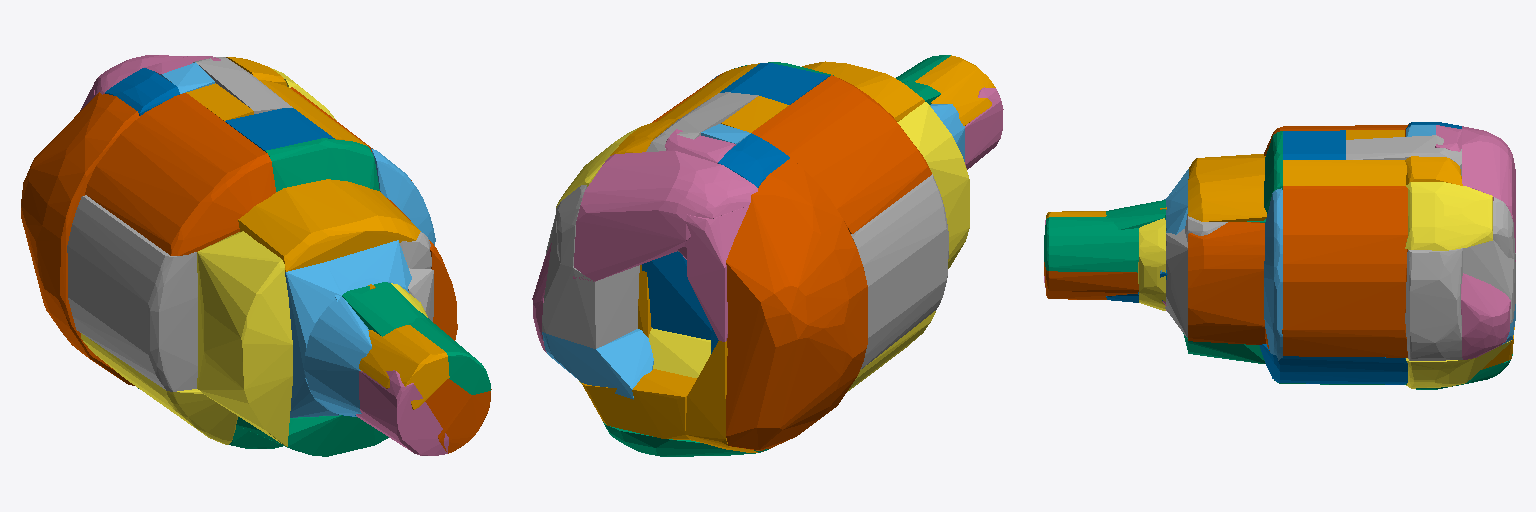
--- What the picture shows (computed from the rendered views, not written in the file) ---
Views: 3 orthographic renders of the robot side by side, from view 1: azimuth 30°, elevation 25°; view 2: azimuth 150°, elevation 25°; view 3: azimuth 270°, elevation 25°.
Model root with 64 links and 63 joints (63 fixed), rooted at link_screw~screw5_convex_piece_0, posed all joints at 0.
Visible links, largest first — view 1: link_screw~screw5_convex_piece_61, link_screw~screw5_convex_piece_31, link_screw~screw5_convex_piece_51, link_screw~screw5_convex_piece_45, link_screw~screw5_convex_piece_32, link_screw~screw5_convex_piece_57, link_screw~screw5_convex_piece_54, link_screw~screw5_convex_piece_26, link_screw~screw5_convex_piece_25, link_screw~screw5_convex_piece_48, link_screw~screw5_convex_piece_43, link_screw~screw5_convex_piece_42 (+17 smaller); view 2: link_screw~screw5_convex_piece_45, link_screw~screw5_convex_piece_62, link_screw~screw5_convex_piece_61, link_screw~screw5_convex_piece_31, link_screw~screw5_convex_piece_55, link_screw~screw5_convex_piece_56, link_screw~screw5_convex_piece_51, link_screw~screw5_convex_piece_6, link_screw~screw5_convex_piece_33, link_screw~screw5_convex_piece_60, link_screw~screw5_convex_piece_40, link_screw~screw5_convex_piece_48 (+18 smaller); view 3: link_screw~screw5_convex_piece_21, link_screw~screw5_convex_piece_29, link_screw~screw5_convex_piece_23, link_screw~screw5_convex_piece_19, link_screw~screw5_convex_piece_32, link_screw~screw5_convex_piece_18, link_screw~screw5_convex_piece_28, link_screw~screw5_convex_piece_37, link_screw~screw5_convex_piece_62, link_screw~screw5_convex_piece_22, link_screw~screw5_convex_piece_24, link_screw~screw5_convex_piece_41 (+15 smaller).
Boxes of the visible links, x1,y1,x2,y2 form: link_screw~screw5_convex_piece_61: (85, 93, 275, 255); link_screw~screw5_convex_piece_31: (67, 195, 197, 391); link_screw~screw5_convex_piece_51: (197, 231, 292, 446); link_screw~screw5_convex_piece_45: (21, 92, 139, 385); link_screw~screw5_convex_piece_32: (238, 179, 420, 271); link_screw~screw5_convex_piece_57: (304, 296, 371, 416); link_screw~screw5_convex_piece_54: (356, 370, 448, 455); link_screw~screw5_convex_piece_26: (265, 138, 379, 191); link_screw~screw5_convex_piece_25: (285, 262, 341, 417); link_screw~screw5_convex_piece_48: (359, 325, 449, 409); link_screw~screw5_convex_piece_43: (81, 333, 238, 444); link_screw~screw5_convex_piece_42: (236, 415, 388, 456); link_screw~screw5_convex_piece_45: (726, 158, 867, 451); link_screw~screw5_convex_piece_62: (573, 151, 757, 281); link_screw~screw5_convex_piece_61: (752, 75, 931, 233); link_screw~screw5_convex_piece_31: (851, 174, 948, 369); link_screw~screw5_convex_piece_55: (542, 217, 639, 348); link_screw~screw5_convex_piece_56: (582, 369, 696, 440); link_screw~screw5_convex_piece_51: (897, 102, 969, 268); link_screw~screw5_convex_piece_6: (686, 206, 748, 341); link_screw~screw5_convex_piece_33: (542, 329, 653, 399); link_screw~screw5_convex_piece_60: (642, 251, 711, 339); link_screw~screw5_convex_piece_40: (685, 341, 757, 452); link_screw~screw5_convex_piece_48: (915, 55, 995, 125); link_screw~screw5_convex_piece_21: (1283, 186, 1407, 329); link_screw~screw5_convex_piece_29: (1188, 222, 1265, 344); link_screw~screw5_convex_piece_23: (1405, 248, 1462, 360); link_screw~screw5_convex_piece_19: (1405, 182, 1492, 250); link_screw~screw5_convex_piece_32: (1188, 154, 1266, 221); link_screw~screw5_convex_piece_18: (1044, 217, 1138, 272); link_screw~screw5_convex_piece_28: (1259, 344, 1407, 384); link_screw~screw5_convex_piece_37: (1265, 324, 1407, 357); link_screw~screw5_convex_piece_62: (1462, 126, 1515, 261); link_screw~screw5_convex_piece_22: (1461, 273, 1510, 359); link_screw~screw5_convex_piece_24: (1283, 160, 1406, 185); link_screw~screw5_convex_piece_41: (1264, 188, 1282, 360).
Size in the robot's own frame: 0.0341 by 0.0612 by 0.0346 metres.
64 mesh visuals loaded from 64 distinct referenced files (64 OBJ).

URDF robot description (root):
<robot name="root">
  <link name="link_screw~screw5_convex_piece_0">
    <inertial>
      <origin xyz="0 0 0" rpy="0 0 0"/>
      <mass value="4.80E-04"/>
      <inertia ixx="9.96E-08" ixy="2.38E-09" ixz="8.95E-09" iyy="9.26E-08" iyz="-2.38E-08" izz="9.87E-09"/>
    </inertial>
    <visual>
      <origin xyz="0 0 0" rpy="0 0 0"/>
      <geometry>
        <mesh filename="screw~screw5_convex_piece_0.obj" scale="1.0000E+00 1.0000E+00 1.0000E+00"/>
      </geometry>
      <material name=""/>
    </visual>
    <collision>
      <origin xyz="0 0 0" rpy="0 0 0"/>
      <geometry>
        <mesh filename="screw~screw5_convex_piece_0.obj" scale="1.0000E+00 1.0000E+00 1.0000E+00"/>
      </geometry>
    </collision>
  </link>
  <link name="link_screw~screw5_convex_piece_1">
    <inertial>
      <origin xyz="0 0 0" rpy="0 0 0"/>
      <mass value="1.46E-03"/>
      <inertia ixx="6.79E-08" ixy="-4.08E-08" ixz="-9.70E-09" iyy="1.22E-07" iyz="-4.87E-09" izz="1.10E-07"/>
    </inertial>
    <visual>
      <origin xyz="0 0 0" rpy="0 0 0"/>
      <geometry>
        <mesh filename="screw~screw5_convex_piece_1.obj" scale="1.0000E+00 1.0000E+00 1.0000E+00"/>
      </geometry>
      <material name=""/>
    </visual>
    <collision>
      <origin xyz="0 0 0" rpy="0 0 0"/>
      <geometry>
        <mesh filename="screw~screw5_convex_piece_1.obj" scale="1.0000E+00 1.0000E+00 1.0000E+00"/>
      </geometry>
    </collision>
  </link>
  <joint name="link_screw~screw5_convex_piece_1_joint" type="fixed">
    <origin xyz="0 0 0" rpy="0 0 0"/>
    <parent link="link_screw~screw5_convex_piece_0"/>
    <child link="link_screw~screw5_convex_piece_1"/>
  </joint>
  <link name="link_screw~screw5_convex_piece_2">
    <inertial>
      <origin xyz="0 0 0" rpy="0 0 0"/>
      <mass value="2.32E-03"/>
      <inertia ixx="2.41E-07" ixy="1.24E-07" ixz="-7.33E-08" iyy="1.83E-07" iyz="7.82E-08" izz="3.02E-07"/>
    </inertial>
    <visual>
      <origin xyz="0 0 0" rpy="0 0 0"/>
      <geometry>
        <mesh filename="screw~screw5_convex_piece_2.obj" scale="1.0000E+00 1.0000E+00 1.0000E+00"/>
      </geometry>
      <material name=""/>
    </visual>
    <collision>
      <origin xyz="0 0 0" rpy="0 0 0"/>
      <geometry>
        <mesh filename="screw~screw5_convex_piece_2.obj" scale="1.0000E+00 1.0000E+00 1.0000E+00"/>
      </geometry>
    </collision>
  </link>
  <joint name="link_screw~screw5_convex_piece_2_joint" type="fixed">
    <origin xyz="0 0 0" rpy="0 0 0"/>
    <parent link="link_screw~screw5_convex_piece_1"/>
    <child link="link_screw~screw5_convex_piece_2"/>
  </joint>
  <link name="link_screw~screw5_convex_piece_3">
    <inertial>
      <origin xyz="0 0 0" rpy="0 0 0"/>
      <mass value="2.25E-03"/>
      <inertia ixx="9.09E-08" ixy="-6.29E-09" ixz="3.91E-09" iyy="2.51E-07" iyz="6.45E-10" izz="2.56E-07"/>
    </inertial>
    <visual>
      <origin xyz="0 0 0" rpy="0 0 0"/>
      <geometry>
        <mesh filename="screw~screw5_convex_piece_3.obj" scale="1.0000E+00 1.0000E+00 1.0000E+00"/>
      </geometry>
      <material name=""/>
    </visual>
    <collision>
      <origin xyz="0 0 0" rpy="0 0 0"/>
      <geometry>
        <mesh filename="screw~screw5_convex_piece_3.obj" scale="1.0000E+00 1.0000E+00 1.0000E+00"/>
      </geometry>
    </collision>
  </link>
  <joint name="link_screw~screw5_convex_piece_3_joint" type="fixed">
    <origin xyz="0 0 0" rpy="0 0 0"/>
    <parent link="link_screw~screw5_convex_piece_2"/>
    <child link="link_screw~screw5_convex_piece_3"/>
  </joint>
  <link name="link_screw~screw5_convex_piece_4">
    <inertial>
      <origin xyz="0 0 0" rpy="0 0 0"/>
      <mass value="1.32E-03"/>
      <inertia ixx="2.61E-07" ixy="5.47E-09" ixz="-1.69E-08" iyy="2.40E-07" iyz="7.14E-08" izz="3.89E-08"/>
    </inertial>
    <visual>
      <origin xyz="0 0 0" rpy="0 0 0"/>
      <geometry>
        <mesh filename="screw~screw5_convex_piece_4.obj" scale="1.0000E+00 1.0000E+00 1.0000E+00"/>
      </geometry>
      <material name=""/>
    </visual>
    <collision>
      <origin xyz="0 0 0" rpy="0 0 0"/>
      <geometry>
        <mesh filename="screw~screw5_convex_piece_4.obj" scale="1.0000E+00 1.0000E+00 1.0000E+00"/>
      </geometry>
    </collision>
  </link>
  <joint name="link_screw~screw5_convex_piece_4_joint" type="fixed">
    <origin xyz="0 0 0" rpy="0 0 0"/>
    <parent link="link_screw~screw5_convex_piece_3"/>
    <child link="link_screw~screw5_convex_piece_4"/>
  </joint>
  <link name="link_screw~screw5_convex_piece_5">
    <inertial>
      <origin xyz="0 0 0" rpy="0 0 0"/>
      <mass value="1.28E-03"/>
      <inertia ixx="1.69E-07" ixy="2.48E-08" ixz="-2.33E-08" iyy="7.94E-08" iyz="7.00E-08" izz="1.11E-07"/>
    </inertial>
    <visual>
      <origin xyz="0 0 0" rpy="0 0 0"/>
      <geometry>
        <mesh filename="screw~screw5_convex_piece_5.obj" scale="1.0000E+00 1.0000E+00 1.0000E+00"/>
      </geometry>
      <material name=""/>
    </visual>
    <collision>
      <origin xyz="0 0 0" rpy="0 0 0"/>
      <geometry>
        <mesh filename="screw~screw5_convex_piece_5.obj" scale="1.0000E+00 1.0000E+00 1.0000E+00"/>
      </geometry>
    </collision>
  </link>
  <joint name="link_screw~screw5_convex_piece_5_joint" type="fixed">
    <origin xyz="0 0 0" rpy="0 0 0"/>
    <parent link="link_screw~screw5_convex_piece_4"/>
    <child link="link_screw~screw5_convex_piece_5"/>
  </joint>
  <link name="link_screw~screw5_convex_piece_6">
    <inertial>
      <origin xyz="0 0 0" rpy="0 0 0"/>
      <mass value="9.29E-04"/>
      <inertia ixx="3.83E-07" ixy="1.06E-07" ixz="4.30E-08" iyy="1.02E-07" iyz="-1.31E-07" izz="3.55E-07"/>
    </inertial>
    <visual>
      <origin xyz="0 0 0" rpy="0 0 0"/>
      <geometry>
        <mesh filename="screw~screw5_convex_piece_6.obj" scale="1.0000E+00 1.0000E+00 1.0000E+00"/>
      </geometry>
      <material name=""/>
    </visual>
    <collision>
      <origin xyz="0 0 0" rpy="0 0 0"/>
      <geometry>
        <mesh filename="screw~screw5_convex_piece_6.obj" scale="1.0000E+00 1.0000E+00 1.0000E+00"/>
      </geometry>
    </collision>
  </link>
  <joint name="link_screw~screw5_convex_piece_6_joint" type="fixed">
    <origin xyz="0 0 0" rpy="0 0 0"/>
    <parent link="link_screw~screw5_convex_piece_5"/>
    <child link="link_screw~screw5_convex_piece_6"/>
  </joint>
  <link name="link_screw~screw5_convex_piece_7">
    <inertial>
      <origin xyz="0 0 0" rpy="0 0 0"/>
      <mass value="6.60E-04"/>
      <inertia ixx="4.32E-08" ixy="6.39E-09" ixz="-4.72E-09" iyy="1.26E-08" iyz="9.67E-09" izz="3.71E-08"/>
    </inertial>
    <visual>
      <origin xyz="0 0 0" rpy="0 0 0"/>
      <geometry>
        <mesh filename="screw~screw5_convex_piece_7.obj" scale="1.0000E+00 1.0000E+00 1.0000E+00"/>
      </geometry>
      <material name=""/>
    </visual>
    <collision>
      <origin xyz="0 0 0" rpy="0 0 0"/>
      <geometry>
        <mesh filename="screw~screw5_convex_piece_7.obj" scale="1.0000E+00 1.0000E+00 1.0000E+00"/>
      </geometry>
    </collision>
  </link>
  <joint name="link_screw~screw5_convex_piece_7_joint" type="fixed">
    <origin xyz="0 0 0" rpy="0 0 0"/>
    <parent link="link_screw~screw5_convex_piece_6"/>
    <child link="link_screw~screw5_convex_piece_7"/>
  </joint>
  <link name="link_screw~screw5_convex_piece_8">
    <inertial>
      <origin xyz="0 0 0" rpy="0 0 0"/>
      <mass value="1.54E-03"/>
      <inertia ixx="2.80E-07" ixy="-2.34E-08" ixz="8.75E-09" iyy="3.37E-08" iyz="6.23E-08" izz="2.57E-07"/>
    </inertial>
    <visual>
      <origin xyz="0 0 0" rpy="0 0 0"/>
      <geometry>
        <mesh filename="screw~screw5_convex_piece_8.obj" scale="1.0000E+00 1.0000E+00 1.0000E+00"/>
      </geometry>
      <material name=""/>
    </visual>
    <collision>
      <origin xyz="0 0 0" rpy="0 0 0"/>
      <geometry>
        <mesh filename="screw~screw5_convex_piece_8.obj" scale="1.0000E+00 1.0000E+00 1.0000E+00"/>
      </geometry>
    </collision>
  </link>
  <joint name="link_screw~screw5_convex_piece_8_joint" type="fixed">
    <origin xyz="0 0 0" rpy="0 0 0"/>
    <parent link="link_screw~screw5_convex_piece_7"/>
    <child link="link_screw~screw5_convex_piece_8"/>
  </joint>
  <link name="link_screw~screw5_convex_piece_9">
    <inertial>
      <origin xyz="0 0 0" rpy="0 0 0"/>
      <mass value="2.65E-03"/>
      <inertia ixx="3.70E-07" ixy="1.79E-07" ixz="6.34E-08" iyy="1.86E-07" iyz="-8.54E-08" izz="4.64E-07"/>
    </inertial>
    <visual>
      <origin xyz="0 0 0" rpy="0 0 0"/>
      <geometry>
        <mesh filename="screw~screw5_convex_piece_9.obj" scale="1.0000E+00 1.0000E+00 1.0000E+00"/>
      </geometry>
      <material name=""/>
    </visual>
    <collision>
      <origin xyz="0 0 0" rpy="0 0 0"/>
      <geometry>
        <mesh filename="screw~screw5_convex_piece_9.obj" scale="1.0000E+00 1.0000E+00 1.0000E+00"/>
      </geometry>
    </collision>
  </link>
  <joint name="link_screw~screw5_convex_piece_9_joint" type="fixed">
    <origin xyz="0 0 0" rpy="0 0 0"/>
    <parent link="link_screw~screw5_convex_piece_8"/>
    <child link="link_screw~screw5_convex_piece_9"/>
  </joint>
  <link name="link_screw~screw5_convex_piece_10">
    <inertial>
      <origin xyz="0 0 0" rpy="0 0 0"/>
      <mass value="1.97E-03"/>
      <inertia ixx="5.12E-07" ixy="-1.03E-08" ixz="1.31E-08" iyy="2.84E-07" iyz="2.49E-07" izz="3.28E-07"/>
    </inertial>
    <visual>
      <origin xyz="0 0 0" rpy="0 0 0"/>
      <geometry>
        <mesh filename="screw~screw5_convex_piece_10.obj" scale="1.0000E+00 1.0000E+00 1.0000E+00"/>
      </geometry>
      <material name=""/>
    </visual>
    <collision>
      <origin xyz="0 0 0" rpy="0 0 0"/>
      <geometry>
        <mesh filename="screw~screw5_convex_piece_10.obj" scale="1.0000E+00 1.0000E+00 1.0000E+00"/>
      </geometry>
    </collision>
  </link>
  <joint name="link_screw~screw5_convex_piece_10_joint" type="fixed">
    <origin xyz="0 0 0" rpy="0 0 0"/>
    <parent link="link_screw~screw5_convex_piece_9"/>
    <child link="link_screw~screw5_convex_piece_10"/>
  </joint>
  <link name="link_screw~screw5_convex_piece_11">
    <inertial>
      <origin xyz="0 0 0" rpy="0 0 0"/>
      <mass value="3.14E-03"/>
      <inertia ixx="3.65E-07" ixy="-4.70E-08" ixz="8.00E-08" iyy="2.36E-07" iyz="9.63E-08" izz="2.45E-07"/>
    </inertial>
    <visual>
      <origin xyz="0 0 0" rpy="0 0 0"/>
      <geometry>
        <mesh filename="screw~screw5_convex_piece_11.obj" scale="1.0000E+00 1.0000E+00 1.0000E+00"/>
      </geometry>
      <material name=""/>
    </visual>
    <collision>
      <origin xyz="0 0 0" rpy="0 0 0"/>
      <geometry>
        <mesh filename="screw~screw5_convex_piece_11.obj" scale="1.0000E+00 1.0000E+00 1.0000E+00"/>
      </geometry>
    </collision>
  </link>
  <joint name="link_screw~screw5_convex_piece_11_joint" type="fixed">
    <origin xyz="0 0 0" rpy="0 0 0"/>
    <parent link="link_screw~screw5_convex_piece_10"/>
    <child link="link_screw~screw5_convex_piece_11"/>
  </joint>
  <link name="link_screw~screw5_convex_piece_12">
    <inertial>
      <origin xyz="0 0 0" rpy="0 0 0"/>
      <mass value="5.05E-03"/>
      <inertia ixx="3.67E-07" ixy="-1.09E-07" ixz="-2.01E-08" iyy="2.59E-07" iyz="-1.56E-08" izz="4.71E-07"/>
    </inertial>
    <visual>
      <origin xyz="0 0 0" rpy="0 0 0"/>
      <geometry>
        <mesh filename="screw~screw5_convex_piece_12.obj" scale="1.0000E+00 1.0000E+00 1.0000E+00"/>
      </geometry>
      <material name=""/>
    </visual>
    <collision>
      <origin xyz="0 0 0" rpy="0 0 0"/>
      <geometry>
        <mesh filename="screw~screw5_convex_piece_12.obj" scale="1.0000E+00 1.0000E+00 1.0000E+00"/>
      </geometry>
    </collision>
  </link>
  <joint name="link_screw~screw5_convex_piece_12_joint" type="fixed">
    <origin xyz="0 0 0" rpy="0 0 0"/>
    <parent link="link_screw~screw5_convex_piece_11"/>
    <child link="link_screw~screw5_convex_piece_12"/>
  </joint>
  <link name="link_screw~screw5_convex_piece_13">
    <inertial>
      <origin xyz="0 0 0" rpy="0 0 0"/>
      <mass value="2.34E-03"/>
      <inertia ixx="2.57E-07" ixy="2.55E-10" ixz="7.73E-10" iyy="2.53E-07" iyz="-6.85E-09" izz="9.65E-08"/>
    </inertial>
    <visual>
      <origin xyz="0 0 0" rpy="0 0 0"/>
      <geometry>
        <mesh filename="screw~screw5_convex_piece_13.obj" scale="1.0000E+00 1.0000E+00 1.0000E+00"/>
      </geometry>
      <material name=""/>
    </visual>
    <collision>
      <origin xyz="0 0 0" rpy="0 0 0"/>
      <geometry>
        <mesh filename="screw~screw5_convex_piece_13.obj" scale="1.0000E+00 1.0000E+00 1.0000E+00"/>
      </geometry>
    </collision>
  </link>
  <joint name="link_screw~screw5_convex_piece_13_joint" type="fixed">
    <origin xyz="0 0 0" rpy="0 0 0"/>
    <parent link="link_screw~screw5_convex_piece_12"/>
    <child link="link_screw~screw5_convex_piece_13"/>
  </joint>
  <link name="link_screw~screw5_convex_piece_14">
    <inertial>
      <origin xyz="0 0 0" rpy="0 0 0"/>
      <mass value="2.22E-03"/>
      <inertia ixx="3.66E-07" ixy="5.08E-08" ixz="4.03E-08" iyy="9.96E-08" iyz="-8.82E-08" izz="3.24E-07"/>
    </inertial>
    <visual>
      <origin xyz="0 0 0" rpy="0 0 0"/>
      <geometry>
        <mesh filename="screw~screw5_convex_piece_14.obj" scale="1.0000E+00 1.0000E+00 1.0000E+00"/>
      </geometry>
      <material name=""/>
    </visual>
    <collision>
      <origin xyz="0 0 0" rpy="0 0 0"/>
      <geometry>
        <mesh filename="screw~screw5_convex_piece_14.obj" scale="1.0000E+00 1.0000E+00 1.0000E+00"/>
      </geometry>
    </collision>
  </link>
  <joint name="link_screw~screw5_convex_piece_14_joint" type="fixed">
    <origin xyz="0 0 0" rpy="0 0 0"/>
    <parent link="link_screw~screw5_convex_piece_13"/>
    <child link="link_screw~screw5_convex_piece_14"/>
  </joint>
  <link name="link_screw~screw5_convex_piece_15">
    <inertial>
      <origin xyz="0 0 0" rpy="0 0 0"/>
      <mass value="1.20E-04"/>
      <inertia ixx="5.70E-08" ixy="-2.56E-08" ixz="-9.71E-09" iyy="2.10E-08" iyz="-1.87E-08" izz="6.28E-08"/>
    </inertial>
    <visual>
      <origin xyz="0 0 0" rpy="0 0 0"/>
      <geometry>
        <mesh filename="screw~screw5_convex_piece_15.obj" scale="1.0000E+00 1.0000E+00 1.0000E+00"/>
      </geometry>
      <material name=""/>
    </visual>
    <collision>
      <origin xyz="0 0 0" rpy="0 0 0"/>
      <geometry>
        <mesh filename="screw~screw5_convex_piece_15.obj" scale="1.0000E+00 1.0000E+00 1.0000E+00"/>
      </geometry>
    </collision>
  </link>
  <joint name="link_screw~screw5_convex_piece_15_joint" type="fixed">
    <origin xyz="0 0 0" rpy="0 0 0"/>
    <parent link="link_screw~screw5_convex_piece_14"/>
    <child link="link_screw~screw5_convex_piece_15"/>
  </joint>
  <link name="link_screw~screw5_convex_piece_16">
    <inertial>
      <origin xyz="0 0 0" rpy="0 0 0"/>
      <mass value="2.30E-03"/>
      <inertia ixx="4.57E-07" ixy="-1.84E-07" ixz="-5.27E-08" iyy="2.47E-07" iyz="-8.90E-08" izz="4.37E-07"/>
    </inertial>
    <visual>
      <origin xyz="0 0 0" rpy="0 0 0"/>
      <geometry>
        <mesh filename="screw~screw5_convex_piece_16.obj" scale="1.0000E+00 1.0000E+00 1.0000E+00"/>
      </geometry>
      <material name=""/>
    </visual>
    <collision>
      <origin xyz="0 0 0" rpy="0 0 0"/>
      <geometry>
        <mesh filename="screw~screw5_convex_piece_16.obj" scale="1.0000E+00 1.0000E+00 1.0000E+00"/>
      </geometry>
    </collision>
  </link>
  <joint name="link_screw~screw5_convex_piece_16_joint" type="fixed">
    <origin xyz="0 0 0" rpy="0 0 0"/>
    <parent link="link_screw~screw5_convex_piece_15"/>
    <child link="link_screw~screw5_convex_piece_16"/>
  </joint>
  <link name="link_screw~screw5_convex_piece_17">
    <inertial>
      <origin xyz="0 0 0" rpy="0 0 0"/>
      <mass value="7.86E-04"/>
      <inertia ixx="1.53E-07" ixy="1.23E-08" ixz="1.09E-08" iyy="8.13E-08" iyz="-6.70E-08" izz="7.81E-08"/>
    </inertial>
    <visual>
      <origin xyz="0 0 0" rpy="0 0 0"/>
      <geometry>
        <mesh filename="screw~screw5_convex_piece_17.obj" scale="1.0000E+00 1.0000E+00 1.0000E+00"/>
      </geometry>
      <material name=""/>
    </visual>
    <collision>
      <origin xyz="0 0 0" rpy="0 0 0"/>
      <geometry>
        <mesh filename="screw~screw5_convex_piece_17.obj" scale="1.0000E+00 1.0000E+00 1.0000E+00"/>
      </geometry>
    </collision>
  </link>
  <joint name="link_screw~screw5_convex_piece_17_joint" type="fixed">
    <origin xyz="0 0 0" rpy="0 0 0"/>
    <parent link="link_screw~screw5_convex_piece_16"/>
    <child link="link_screw~screw5_convex_piece_17"/>
  </joint>
  <link name="link_screw~screw5_convex_piece_18">
    <inertial>
      <origin xyz="0 0 0" rpy="0 0 0"/>
      <mass value="6.26E-04"/>
      <inertia ixx="6.94E-07" ixy="6.23E-08" ixz="-4.94E-09" iyy="1.35E-08" iyz="6.10E-08" izz="6.94E-07"/>
    </inertial>
    <visual>
      <origin xyz="0 0 0" rpy="0 0 0"/>
      <geometry>
        <mesh filename="screw~screw5_convex_piece_18.obj" scale="1.0000E+00 1.0000E+00 1.0000E+00"/>
      </geometry>
      <material name=""/>
    </visual>
    <collision>
      <origin xyz="0 0 0" rpy="0 0 0"/>
      <geometry>
        <mesh filename="screw~screw5_convex_piece_18.obj" scale="1.0000E+00 1.0000E+00 1.0000E+00"/>
      </geometry>
    </collision>
  </link>
  <joint name="link_screw~screw5_convex_piece_18_joint" type="fixed">
    <origin xyz="0 0 0" rpy="0 0 0"/>
    <parent link="link_screw~screw5_convex_piece_17"/>
    <child link="link_screw~screw5_convex_piece_18"/>
  </joint>
  <link name="link_screw~screw5_convex_piece_19">
    <inertial>
      <origin xyz="0 0 0" rpy="0 0 0"/>
      <mass value="7.23E-04"/>
      <inertia ixx="2.06E-07" ixy="-1.04E-07" ixz="-8.32E-08" iyy="1.72E-07" iyz="-9.58E-08" izz="2.19E-07"/>
    </inertial>
    <visual>
      <origin xyz="0 0 0" rpy="0 0 0"/>
      <geometry>
        <mesh filename="screw~screw5_convex_piece_19.obj" scale="1.0000E+00 1.0000E+00 1.0000E+00"/>
      </geometry>
      <material name=""/>
    </visual>
    <collision>
      <origin xyz="0 0 0" rpy="0 0 0"/>
      <geometry>
        <mesh filename="screw~screw5_convex_piece_19.obj" scale="1.0000E+00 1.0000E+00 1.0000E+00"/>
      </geometry>
    </collision>
  </link>
  <joint name="link_screw~screw5_convex_piece_19_joint" type="fixed">
    <origin xyz="0 0 0" rpy="0 0 0"/>
    <parent link="link_screw~screw5_convex_piece_18"/>
    <child link="link_screw~screw5_convex_piece_19"/>
  </joint>
  <link name="link_screw~screw5_convex_piece_20">
    <inertial>
      <origin xyz="0 0 0" rpy="0 0 0"/>
      <mass value="2.56E-03"/>
      <inertia ixx="5.28E-07" ixy="1.76E-07" ixz="5.18E-08" iyy="2.56E-07" iyz="-1.07E-07" izz="4.57E-07"/>
    </inertial>
    <visual>
      <origin xyz="0 0 0" rpy="0 0 0"/>
      <geometry>
        <mesh filename="screw~screw5_convex_piece_20.obj" scale="1.0000E+00 1.0000E+00 1.0000E+00"/>
      </geometry>
      <material name=""/>
    </visual>
    <collision>
      <origin xyz="0 0 0" rpy="0 0 0"/>
      <geometry>
        <mesh filename="screw~screw5_convex_piece_20.obj" scale="1.0000E+00 1.0000E+00 1.0000E+00"/>
      </geometry>
    </collision>
  </link>
  <joint name="link_screw~screw5_convex_piece_20_joint" type="fixed">
    <origin xyz="0 0 0" rpy="0 0 0"/>
    <parent link="link_screw~screw5_convex_piece_19"/>
    <child link="link_screw~screw5_convex_piece_20"/>
  </joint>
  <link name="link_screw~screw5_convex_piece_21">
    <inertial>
      <origin xyz="0 0 0" rpy="0 0 0"/>
      <mass value="4.19E-03"/>
      <inertia ixx="2.37E-07" ixy="8.62E-09" ixz="-2.00E-07" iyy="8.29E-07" iyz="1.08E-09" izz="7.72E-07"/>
    </inertial>
    <visual>
      <origin xyz="0 0 0" rpy="0 0 0"/>
      <geometry>
        <mesh filename="screw~screw5_convex_piece_21.obj" scale="1.0000E+00 1.0000E+00 1.0000E+00"/>
      </geometry>
      <material name=""/>
    </visual>
    <collision>
      <origin xyz="0 0 0" rpy="0 0 0"/>
      <geometry>
        <mesh filename="screw~screw5_convex_piece_21.obj" scale="1.0000E+00 1.0000E+00 1.0000E+00"/>
      </geometry>
    </collision>
  </link>
  <joint name="link_screw~screw5_convex_piece_21_joint" type="fixed">
    <origin xyz="0 0 0" rpy="0 0 0"/>
    <parent link="link_screw~screw5_convex_piece_20"/>
    <child link="link_screw~screw5_convex_piece_21"/>
  </joint>
  <link name="link_screw~screw5_convex_piece_22">
    <inertial>
      <origin xyz="0 0 0" rpy="0 0 0"/>
      <mass value="3.16E-04"/>
      <inertia ixx="1.03E-07" ixy="-8.04E-08" ixz="1.01E-08" iyy="7.04E-08" iyz="1.25E-08" izz="1.65E-07"/>
    </inertial>
    <visual>
      <origin xyz="0 0 0" rpy="0 0 0"/>
      <geometry>
        <mesh filename="screw~screw5_convex_piece_22.obj" scale="1.0000E+00 1.0000E+00 1.0000E+00"/>
      </geometry>
      <material name=""/>
    </visual>
    <collision>
      <origin xyz="0 0 0" rpy="0 0 0"/>
      <geometry>
        <mesh filename="screw~screw5_convex_piece_22.obj" scale="1.0000E+00 1.0000E+00 1.0000E+00"/>
      </geometry>
    </collision>
  </link>
  <joint name="link_screw~screw5_convex_piece_22_joint" type="fixed">
    <origin xyz="0 0 0" rpy="0 0 0"/>
    <parent link="link_screw~screw5_convex_piece_21"/>
    <child link="link_screw~screw5_convex_piece_22"/>
  </joint>
  <link name="link_screw~screw5_convex_piece_23">
    <inertial>
      <origin xyz="0 0 0" rpy="0 0 0"/>
      <mass value="2.51E-03"/>
      <inertia ixx="3.93E-07" ixy="-3.67E-07" ixz="3.77E-09" iyy="4.70E-07" iyz="3.18E-09" izz="7.60E-07"/>
    </inertial>
    <visual>
      <origin xyz="0 0 0" rpy="0 0 0"/>
      <geometry>
        <mesh filename="screw~screw5_convex_piece_23.obj" scale="1.0000E+00 1.0000E+00 1.0000E+00"/>
      </geometry>
      <material name=""/>
    </visual>
    <collision>
      <origin xyz="0 0 0" rpy="0 0 0"/>
      <geometry>
        <mesh filename="screw~screw5_convex_piece_23.obj" scale="1.0000E+00 1.0000E+00 1.0000E+00"/>
      </geometry>
    </collision>
  </link>
  <joint name="link_screw~screw5_convex_piece_23_joint" type="fixed">
    <origin xyz="0 0 0" rpy="0 0 0"/>
    <parent link="link_screw~screw5_convex_piece_22"/>
    <child link="link_screw~screw5_convex_piece_23"/>
  </joint>
  <link name="link_screw~screw5_convex_piece_24">
    <inertial>
      <origin xyz="0 0 0" rpy="0 0 0"/>
      <mass value="1.07E-03"/>
      <inertia ixx="1.90E-07" ixy="2.38E-09" ixz="-9.33E-08" iyy="2.22E-07" iyz="4.11E-09" izz="7.77E-08"/>
    </inertial>
    <visual>
      <origin xyz="0 0 0" rpy="0 0 0"/>
      <geometry>
        <mesh filename="screw~screw5_convex_piece_24.obj" scale="1.0000E+00 1.0000E+00 1.0000E+00"/>
      </geometry>
      <material name=""/>
    </visual>
    <collision>
      <origin xyz="0 0 0" rpy="0 0 0"/>
      <geometry>
        <mesh filename="screw~screw5_convex_piece_24.obj" scale="1.0000E+00 1.0000E+00 1.0000E+00"/>
      </geometry>
    </collision>
  </link>
  <joint name="link_screw~screw5_convex_piece_24_joint" type="fixed">
    <origin xyz="0 0 0" rpy="0 0 0"/>
    <parent link="link_screw~screw5_convex_piece_23"/>
    <child link="link_screw~screw5_convex_piece_24"/>
  </joint>
  <link name="link_screw~screw5_convex_piece_25">
    <inertial>
      <origin xyz="0 0 0" rpy="0 0 0"/>
      <mass value="1.67E-03"/>
      <inertia ixx="6.53E-07" ixy="-1.67E-07" ixz="7.75E-09" iyy="8.71E-08" iyz="2.63E-08" izz="6.65E-07"/>
    </inertial>
    <visual>
      <origin xyz="0 0 0" rpy="0 0 0"/>
      <geometry>
        <mesh filename="screw~screw5_convex_piece_25.obj" scale="1.0000E+00 1.0000E+00 1.0000E+00"/>
      </geometry>
      <material name=""/>
    </visual>
    <collision>
      <origin xyz="0 0 0" rpy="0 0 0"/>
      <geometry>
        <mesh filename="screw~screw5_convex_piece_25.obj" scale="1.0000E+00 1.0000E+00 1.0000E+00"/>
      </geometry>
    </collision>
  </link>
  <joint name="link_screw~screw5_convex_piece_25_joint" type="fixed">
    <origin xyz="0 0 0" rpy="0 0 0"/>
    <parent link="link_screw~screw5_convex_piece_24"/>
    <child link="link_screw~screw5_convex_piece_25"/>
  </joint>
  <link name="link_screw~screw5_convex_piece_26">
    <inertial>
      <origin xyz="0 0 0" rpy="0 0 0"/>
      <mass value="4.54E-04"/>
      <inertia ixx="1.11E-07" ixy="1.14E-08" ixz="-1.46E-08" iyy="7.98E-08" iyz="5.25E-08" izz="4.84E-08"/>
    </inertial>
    <visual>
      <origin xyz="0 0 0" rpy="0 0 0"/>
      <geometry>
        <mesh filename="screw~screw5_convex_piece_26.obj" scale="1.0000E+00 1.0000E+00 1.0000E+00"/>
      </geometry>
      <material name=""/>
    </visual>
    <collision>
      <origin xyz="0 0 0" rpy="0 0 0"/>
      <geometry>
        <mesh filename="screw~screw5_convex_piece_26.obj" scale="1.0000E+00 1.0000E+00 1.0000E+00"/>
      </geometry>
    </collision>
  </link>
  <joint name="link_screw~screw5_convex_piece_26_joint" type="fixed">
    <origin xyz="0 0 0" rpy="0 0 0"/>
    <parent link="link_screw~screw5_convex_piece_25"/>
    <child link="link_screw~screw5_convex_piece_26"/>
  </joint>
  <link name="link_screw~screw5_convex_piece_27">
    <inertial>
      <origin xyz="0 0 0" rpy="0 0 0"/>
      <mass value="7.50E-04"/>
      <inertia ixx="2.08E-07" ixy="-1.01E-07" ixz="8.31E-08" iyy="1.72E-07" iyz="9.70E-08" izz="2.13E-07"/>
    </inertial>
    <visual>
      <origin xyz="0 0 0" rpy="0 0 0"/>
      <geometry>
        <mesh filename="screw~screw5_convex_piece_27.obj" scale="1.0000E+00 1.0000E+00 1.0000E+00"/>
      </geometry>
      <material name=""/>
    </visual>
    <collision>
      <origin xyz="0 0 0" rpy="0 0 0"/>
      <geometry>
        <mesh filename="screw~screw5_convex_piece_27.obj" scale="1.0000E+00 1.0000E+00 1.0000E+00"/>
      </geometry>
    </collision>
  </link>
  <joint name="link_screw~screw5_convex_piece_27_joint" type="fixed">
    <origin xyz="0 0 0" rpy="0 0 0"/>
    <parent link="link_screw~screw5_convex_piece_26"/>
    <child link="link_screw~screw5_convex_piece_27"/>
  </joint>
  <link name="link_screw~screw5_convex_piece_28">
    <inertial>
      <origin xyz="0 0 0" rpy="0 0 0"/>
      <mass value="1.57E-03"/>
      <inertia ixx="2.11E-07" ixy="1.67E-08" ixz="1.65E-07" iyy="3.44E-07" iyz="-1.63E-08" izz="2.22E-07"/>
    </inertial>
    <visual>
      <origin xyz="0 0 0" rpy="0 0 0"/>
      <geometry>
        <mesh filename="screw~screw5_convex_piece_28.obj" scale="1.0000E+00 1.0000E+00 1.0000E+00"/>
      </geometry>
      <material name=""/>
    </visual>
    <collision>
      <origin xyz="0 0 0" rpy="0 0 0"/>
      <geometry>
        <mesh filename="screw~screw5_convex_piece_28.obj" scale="1.0000E+00 1.0000E+00 1.0000E+00"/>
      </geometry>
    </collision>
  </link>
  <joint name="link_screw~screw5_convex_piece_28_joint" type="fixed">
    <origin xyz="0 0 0" rpy="0 0 0"/>
    <parent link="link_screw~screw5_convex_piece_27"/>
    <child link="link_screw~screw5_convex_piece_28"/>
  </joint>
  <link name="link_screw~screw5_convex_piece_29">
    <inertial>
      <origin xyz="0 0 0" rpy="0 0 0"/>
      <mass value="1.36E-03"/>
      <inertia ixx="3.38E-07" ixy="2.16E-07" ixz="-4.41E-09" iyy="1.79E-07" iyz="5.85E-09" izz="4.70E-07"/>
    </inertial>
    <visual>
      <origin xyz="0 0 0" rpy="0 0 0"/>
      <geometry>
        <mesh filename="screw~screw5_convex_piece_29.obj" scale="1.0000E+00 1.0000E+00 1.0000E+00"/>
      </geometry>
      <material name=""/>
    </visual>
    <collision>
      <origin xyz="0 0 0" rpy="0 0 0"/>
      <geometry>
        <mesh filename="screw~screw5_convex_piece_29.obj" scale="1.0000E+00 1.0000E+00 1.0000E+00"/>
      </geometry>
    </collision>
  </link>
  <joint name="link_screw~screw5_convex_piece_29_joint" type="fixed">
    <origin xyz="0 0 0" rpy="0 0 0"/>
    <parent link="link_screw~screw5_convex_piece_28"/>
    <child link="link_screw~screw5_convex_piece_29"/>
  </joint>
  <link name="link_screw~screw5_convex_piece_30">
    <inertial>
      <origin xyz="0 0 0" rpy="0 0 0"/>
      <mass value="3.46E-04"/>
      <inertia ixx="8.19E-08" ixy="8.66E-09" ixz="3.47E-09" iyy="1.50E-08" iyz="-2.89E-08" izz="7.01E-08"/>
    </inertial>
    <visual>
      <origin xyz="0 0 0" rpy="0 0 0"/>
      <geometry>
        <mesh filename="screw~screw5_convex_piece_30.obj" scale="1.0000E+00 1.0000E+00 1.0000E+00"/>
      </geometry>
      <material name=""/>
    </visual>
    <collision>
      <origin xyz="0 0 0" rpy="0 0 0"/>
      <geometry>
        <mesh filename="screw~screw5_convex_piece_30.obj" scale="1.0000E+00 1.0000E+00 1.0000E+00"/>
      </geometry>
    </collision>
  </link>
  <joint name="link_screw~screw5_convex_piece_30_joint" type="fixed">
    <origin xyz="0 0 0" rpy="0 0 0"/>
    <parent link="link_screw~screw5_convex_piece_29"/>
    <child link="link_screw~screw5_convex_piece_30"/>
  </joint>
  <link name="link_screw~screw5_convex_piece_31">
    <inertial>
      <origin xyz="0 0 0" rpy="0 0 0"/>
      <mass value="3.64E-03"/>
      <inertia ixx="1.56E-07" ixy="-4.02E-08" ixz="1.89E-08" iyy="7.61E-07" iyz="7.98E-10" izz="7.96E-07"/>
    </inertial>
    <visual>
      <origin xyz="0 0 0" rpy="0 0 0"/>
      <geometry>
        <mesh filename="screw~screw5_convex_piece_31.obj" scale="1.0000E+00 1.0000E+00 1.0000E+00"/>
      </geometry>
      <material name=""/>
    </visual>
    <collision>
      <origin xyz="0 0 0" rpy="0 0 0"/>
      <geometry>
        <mesh filename="screw~screw5_convex_piece_31.obj" scale="1.0000E+00 1.0000E+00 1.0000E+00"/>
      </geometry>
    </collision>
  </link>
  <joint name="link_screw~screw5_convex_piece_31_joint" type="fixed">
    <origin xyz="0 0 0" rpy="0 0 0"/>
    <parent link="link_screw~screw5_convex_piece_30"/>
    <child link="link_screw~screw5_convex_piece_31"/>
  </joint>
  <link name="link_screw~screw5_convex_piece_32">
    <inertial>
      <origin xyz="0 0 0" rpy="0 0 0"/>
      <mass value="1.42E-03"/>
      <inertia ixx="4.89E-07" ixy="5.13E-09" ixz="-3.57E-09" iyy="1.86E-07" iyz="2.24E-07" izz="3.51E-07"/>
    </inertial>
    <visual>
      <origin xyz="0 0 0" rpy="0 0 0"/>
      <geometry>
        <mesh filename="screw~screw5_convex_piece_32.obj" scale="1.0000E+00 1.0000E+00 1.0000E+00"/>
      </geometry>
      <material name=""/>
    </visual>
    <collision>
      <origin xyz="0 0 0" rpy="0 0 0"/>
      <geometry>
        <mesh filename="screw~screw5_convex_piece_32.obj" scale="1.0000E+00 1.0000E+00 1.0000E+00"/>
      </geometry>
    </collision>
  </link>
  <joint name="link_screw~screw5_convex_piece_32_joint" type="fixed">
    <origin xyz="0 0 0" rpy="0 0 0"/>
    <parent link="link_screw~screw5_convex_piece_31"/>
    <child link="link_screw~screw5_convex_piece_32"/>
  </joint>
  <link name="link_screw~screw5_convex_piece_33">
    <inertial>
      <origin xyz="0 0 0" rpy="0 0 0"/>
      <mass value="8.13E-04"/>
      <inertia ixx="3.11E-07" ixy="-1.26E-07" ixz="4.05E-08" iyy="9.46E-08" iyz="9.00E-08" izz="3.44E-07"/>
    </inertial>
    <visual>
      <origin xyz="0 0 0" rpy="0 0 0"/>
      <geometry>
        <mesh filename="screw~screw5_convex_piece_33.obj" scale="1.0000E+00 1.0000E+00 1.0000E+00"/>
      </geometry>
      <material name=""/>
    </visual>
    <collision>
      <origin xyz="0 0 0" rpy="0 0 0"/>
      <geometry>
        <mesh filename="screw~screw5_convex_piece_33.obj" scale="1.0000E+00 1.0000E+00 1.0000E+00"/>
      </geometry>
    </collision>
  </link>
  <joint name="link_screw~screw5_convex_piece_33_joint" type="fixed">
    <origin xyz="0 0 0" rpy="0 0 0"/>
    <parent link="link_screw~screw5_convex_piece_32"/>
    <child link="link_screw~screw5_convex_piece_33"/>
  </joint>
  <link name="link_screw~screw5_convex_piece_34">
    <inertial>
      <origin xyz="0 0 0" rpy="0 0 0"/>
      <mass value="3.82E-03"/>
      <inertia ixx="8.25E-07" ixy="6.82E-10" ixz="4.30E-09" iyy="7.89E-07" iyz="-4.54E-08" izz="1.71E-07"/>
    </inertial>
    <visual>
      <origin xyz="0 0 0" rpy="0 0 0"/>
      <geometry>
        <mesh filename="screw~screw5_convex_piece_34.obj" scale="1.0000E+00 1.0000E+00 1.0000E+00"/>
      </geometry>
      <material name=""/>
    </visual>
    <collision>
      <origin xyz="0 0 0" rpy="0 0 0"/>
      <geometry>
        <mesh filename="screw~screw5_convex_piece_34.obj" scale="1.0000E+00 1.0000E+00 1.0000E+00"/>
      </geometry>
    </collision>
  </link>
  <joint name="link_screw~screw5_convex_piece_34_joint" type="fixed">
    <origin xyz="0 0 0" rpy="0 0 0"/>
    <parent link="link_screw~screw5_convex_piece_33"/>
    <child link="link_screw~screw5_convex_piece_34"/>
  </joint>
  <link name="link_screw~screw5_convex_piece_35">
    <inertial>
      <origin xyz="0 0 0" rpy="0 0 0"/>
      <mass value="1.11E-03"/>
      <inertia ixx="2.06E-07" ixy="-6.20E-09" ixz="3.05E-09" iyy="5.48E-08" iyz="8.15E-08" izz="1.68E-07"/>
    </inertial>
    <visual>
      <origin xyz="0 0 0" rpy="0 0 0"/>
      <geometry>
        <mesh filename="screw~screw5_convex_piece_35.obj" scale="1.0000E+00 1.0000E+00 1.0000E+00"/>
      </geometry>
      <material name=""/>
    </visual>
    <collision>
      <origin xyz="0 0 0" rpy="0 0 0"/>
      <geometry>
        <mesh filename="screw~screw5_convex_piece_35.obj" scale="1.0000E+00 1.0000E+00 1.0000E+00"/>
      </geometry>
    </collision>
  </link>
  <joint name="link_screw~screw5_convex_piece_35_joint" type="fixed">
    <origin xyz="0 0 0" rpy="0 0 0"/>
    <parent link="link_screw~screw5_convex_piece_34"/>
    <child link="link_screw~screw5_convex_piece_35"/>
  </joint>
  <link name="link_screw~screw5_convex_piece_36">
    <inertial>
      <origin xyz="0 0 0" rpy="0 0 0"/>
      <mass value="2.08E-03"/>
      <inertia ixx="4.10E-07" ixy="-3.06E-08" ixz="-1.28E-08" iyy="4.62E-08" iyz="-7.87E-08" izz="3.81E-07"/>
    </inertial>
    <visual>
      <origin xyz="0 0 0" rpy="0 0 0"/>
      <geometry>
        <mesh filename="screw~screw5_convex_piece_36.obj" scale="1.0000E+00 1.0000E+00 1.0000E+00"/>
      </geometry>
      <material name=""/>
    </visual>
    <collision>
      <origin xyz="0 0 0" rpy="0 0 0"/>
      <geometry>
        <mesh filename="screw~screw5_convex_piece_36.obj" scale="1.0000E+00 1.0000E+00 1.0000E+00"/>
      </geometry>
    </collision>
  </link>
  <joint name="link_screw~screw5_convex_piece_36_joint" type="fixed">
    <origin xyz="0 0 0" rpy="0 0 0"/>
    <parent link="link_screw~screw5_convex_piece_35"/>
    <child link="link_screw~screw5_convex_piece_36"/>
  </joint>
  <link name="link_screw~screw5_convex_piece_37">
    <inertial>
      <origin xyz="0 0 0" rpy="0 0 0"/>
      <mass value="1.43E-03"/>
      <inertia ixx="8.27E-08" ixy="2.06E-08" ixz="9.64E-08" iyy="2.81E-07" iyz="-8.96E-09" izz="2.77E-07"/>
    </inertial>
    <visual>
      <origin xyz="0 0 0" rpy="0 0 0"/>
      <geometry>
        <mesh filename="screw~screw5_convex_piece_37.obj" scale="1.0000E+00 1.0000E+00 1.0000E+00"/>
      </geometry>
      <material name=""/>
    </visual>
    <collision>
      <origin xyz="0 0 0" rpy="0 0 0"/>
      <geometry>
        <mesh filename="screw~screw5_convex_piece_37.obj" scale="1.0000E+00 1.0000E+00 1.0000E+00"/>
      </geometry>
    </collision>
  </link>
  <joint name="link_screw~screw5_convex_piece_37_joint" type="fixed">
    <origin xyz="0 0 0" rpy="0 0 0"/>
    <parent link="link_screw~screw5_convex_piece_36"/>
    <child link="link_screw~screw5_convex_piece_37"/>
  </joint>
  <link name="link_screw~screw5_convex_piece_38">
    <inertial>
      <origin xyz="0 0 0" rpy="0 0 0"/>
      <mass value="2.96E-04"/>
      <inertia ixx="6.99E-08" ixy="6.82E-09" ixz="7.12E-10" iyy="2.06E-09" iyz="-5.44E-09" izz="7.02E-08"/>
    </inertial>
    <visual>
      <origin xyz="0 0 0" rpy="0 0 0"/>
      <geometry>
        <mesh filename="screw~screw5_convex_piece_38.obj" scale="1.0000E+00 1.0000E+00 1.0000E+00"/>
      </geometry>
      <material name=""/>
    </visual>
    <collision>
      <origin xyz="0 0 0" rpy="0 0 0"/>
      <geometry>
        <mesh filename="screw~screw5_convex_piece_38.obj" scale="1.0000E+00 1.0000E+00 1.0000E+00"/>
      </geometry>
    </collision>
  </link>
  <joint name="link_screw~screw5_convex_piece_38_joint" type="fixed">
    <origin xyz="0 0 0" rpy="0 0 0"/>
    <parent link="link_screw~screw5_convex_piece_37"/>
    <child link="link_screw~screw5_convex_piece_38"/>
  </joint>
  <link name="link_screw~screw5_convex_piece_39">
    <inertial>
      <origin xyz="0 0 0" rpy="0 0 0"/>
      <mass value="2.61E-03"/>
      <inertia ixx="5.27E-07" ixy="-5.35E-08" ixz="-7.47E-08" iyy="3.51E-07" iyz="-2.11E-07" izz="2.23E-07"/>
    </inertial>
    <visual>
      <origin xyz="0 0 0" rpy="0 0 0"/>
      <geometry>
        <mesh filename="screw~screw5_convex_piece_39.obj" scale="1.0000E+00 1.0000E+00 1.0000E+00"/>
      </geometry>
      <material name=""/>
    </visual>
    <collision>
      <origin xyz="0 0 0" rpy="0 0 0"/>
      <geometry>
        <mesh filename="screw~screw5_convex_piece_39.obj" scale="1.0000E+00 1.0000E+00 1.0000E+00"/>
      </geometry>
    </collision>
  </link>
  <joint name="link_screw~screw5_convex_piece_39_joint" type="fixed">
    <origin xyz="0 0 0" rpy="0 0 0"/>
    <parent link="link_screw~screw5_convex_piece_38"/>
    <child link="link_screw~screw5_convex_piece_39"/>
  </joint>
  <link name="link_screw~screw5_convex_piece_40">
    <inertial>
      <origin xyz="0 0 0" rpy="0 0 0"/>
      <mass value="1.01E-03"/>
      <inertia ixx="4.09E-07" ixy="1.13E-07" ixz="-4.47E-08" iyy="1.09E-07" iyz="1.36E-07" izz="3.79E-07"/>
    </inertial>
    <visual>
      <origin xyz="0 0 0" rpy="0 0 0"/>
      <geometry>
        <mesh filename="screw~screw5_convex_piece_40.obj" scale="1.0000E+00 1.0000E+00 1.0000E+00"/>
      </geometry>
      <material name=""/>
    </visual>
    <collision>
      <origin xyz="0 0 0" rpy="0 0 0"/>
      <geometry>
        <mesh filename="screw~screw5_convex_piece_40.obj" scale="1.0000E+00 1.0000E+00 1.0000E+00"/>
      </geometry>
    </collision>
  </link>
  <joint name="link_screw~screw5_convex_piece_40_joint" type="fixed">
    <origin xyz="0 0 0" rpy="0 0 0"/>
    <parent link="link_screw~screw5_convex_piece_39"/>
    <child link="link_screw~screw5_convex_piece_40"/>
  </joint>
  <link name="link_screw~screw5_convex_piece_41">
    <inertial>
      <origin xyz="0 0 0" rpy="0 0 0"/>
      <mass value="5.88E-04"/>
      <inertia ixx="6.74E-08" ixy="6.74E-08" ixz="-1.50E-08" iyy="1.09E-07" iyz="1.26E-08" izz="1.43E-07"/>
    </inertial>
    <visual>
      <origin xyz="0 0 0" rpy="0 0 0"/>
      <geometry>
        <mesh filename="screw~screw5_convex_piece_41.obj" scale="1.0000E+00 1.0000E+00 1.0000E+00"/>
      </geometry>
      <material name=""/>
    </visual>
    <collision>
      <origin xyz="0 0 0" rpy="0 0 0"/>
      <geometry>
        <mesh filename="screw~screw5_convex_piece_41.obj" scale="1.0000E+00 1.0000E+00 1.0000E+00"/>
      </geometry>
    </collision>
  </link>
  <joint name="link_screw~screw5_convex_piece_41_joint" type="fixed">
    <origin xyz="0 0 0" rpy="0 0 0"/>
    <parent link="link_screw~screw5_convex_piece_40"/>
    <child link="link_screw~screw5_convex_piece_41"/>
  </joint>
  <link name="link_screw~screw5_convex_piece_42">
    <inertial>
      <origin xyz="0 0 0" rpy="0 0 0"/>
      <mass value="2.65E-03"/>
      <inertia ixx="8.67E-07" ixy="1.89E-08" ixz="1.11E-08" iyy="3.12E-07" iyz="-3.80E-07" izz="6.69E-07"/>
    </inertial>
    <visual>
      <origin xyz="0 0 0" rpy="0 0 0"/>
      <geometry>
        <mesh filename="screw~screw5_convex_piece_42.obj" scale="1.0000E+00 1.0000E+00 1.0000E+00"/>
      </geometry>
      <material name=""/>
    </visual>
    <collision>
      <origin xyz="0 0 0" rpy="0 0 0"/>
      <geometry>
        <mesh filename="screw~screw5_convex_piece_42.obj" scale="1.0000E+00 1.0000E+00 1.0000E+00"/>
      </geometry>
    </collision>
  </link>
  <joint name="link_screw~screw5_convex_piece_42_joint" type="fixed">
    <origin xyz="0 0 0" rpy="0 0 0"/>
    <parent link="link_screw~screw5_convex_piece_41"/>
    <child link="link_screw~screw5_convex_piece_42"/>
  </joint>
  <link name="link_screw~screw5_convex_piece_43">
    <inertial>
      <origin xyz="0 0 0" rpy="0 0 0"/>
      <mass value="1.81E-03"/>
      <inertia ixx="2.42E-07" ixy="-2.25E-08" ixz="-1.86E-07" iyy="3.93E-07" iyz="-2.12E-08" izz="2.60E-07"/>
    </inertial>
    <visual>
      <origin xyz="0 0 0" rpy="0 0 0"/>
      <geometry>
        <mesh filename="screw~screw5_convex_piece_43.obj" scale="1.0000E+00 1.0000E+00 1.0000E+00"/>
      </geometry>
      <material name=""/>
    </visual>
    <collision>
      <origin xyz="0 0 0" rpy="0 0 0"/>
      <geometry>
        <mesh filename="screw~screw5_convex_piece_43.obj" scale="1.0000E+00 1.0000E+00 1.0000E+00"/>
      </geometry>
    </collision>
  </link>
  <joint name="link_screw~screw5_convex_piece_43_joint" type="fixed">
    <origin xyz="0 0 0" rpy="0 0 0"/>
    <parent link="link_screw~screw5_convex_piece_42"/>
    <child link="link_screw~screw5_convex_piece_43"/>
  </joint>
  <link name="link_screw~screw5_convex_piece_44">
    <inertial>
      <origin xyz="0 0 0" rpy="0 0 0"/>
      <mass value="3.59E-04"/>
      <inertia ixx="3.06E-07" ixy="-2.55E-09" ixz="-1.63E-10" iyy="7.02E-09" iyz="-3.76E-08" izz="3.02E-07"/>
    </inertial>
    <visual>
      <origin xyz="0 0 0" rpy="0 0 0"/>
      <geometry>
        <mesh filename="screw~screw5_convex_piece_44.obj" scale="1.0000E+00 1.0000E+00 1.0000E+00"/>
      </geometry>
      <material name=""/>
    </visual>
    <collision>
      <origin xyz="0 0 0" rpy="0 0 0"/>
      <geometry>
        <mesh filename="screw~screw5_convex_piece_44.obj" scale="1.0000E+00 1.0000E+00 1.0000E+00"/>
      </geometry>
    </collision>
  </link>
  <joint name="link_screw~screw5_convex_piece_44_joint" type="fixed">
    <origin xyz="0 0 0" rpy="0 0 0"/>
    <parent link="link_screw~screw5_convex_piece_43"/>
    <child link="link_screw~screw5_convex_piece_44"/>
  </joint>
  <link name="link_screw~screw5_convex_piece_45">
    <inertial>
      <origin xyz="0 0 0" rpy="0 0 0"/>
      <mass value="6.53E-03"/>
      <inertia ixx="1.65E-06" ixy="1.05E-06" ixz="1.54E-09" iyy="1.20E-06" iyz="4.97E-09" izz="2.27E-06"/>
    </inertial>
    <visual>
      <origin xyz="0 0 0" rpy="0 0 0"/>
      <geometry>
        <mesh filename="screw~screw5_convex_piece_45.obj" scale="1.0000E+00 1.0000E+00 1.0000E+00"/>
      </geometry>
      <material name=""/>
    </visual>
    <collision>
      <origin xyz="0 0 0" rpy="0 0 0"/>
      <geometry>
        <mesh filename="screw~screw5_convex_piece_45.obj" scale="1.0000E+00 1.0000E+00 1.0000E+00"/>
      </geometry>
    </collision>
  </link>
  <joint name="link_screw~screw5_convex_piece_45_joint" type="fixed">
    <origin xyz="0 0 0" rpy="0 0 0"/>
    <parent link="link_screw~screw5_convex_piece_44"/>
    <child link="link_screw~screw5_convex_piece_45"/>
  </joint>
  <link name="link_screw~screw5_convex_piece_46">
    <inertial>
      <origin xyz="0 0 0" rpy="0 0 0"/>
      <mass value="5.35E-04"/>
      <inertia ixx="1.96E-07" ixy="2.68E-09" ixz="2.18E-09" iyy="1.02E-07" iyz="-9.62E-08" izz="9.76E-08"/>
    </inertial>
    <visual>
      <origin xyz="0 0 0" rpy="0 0 0"/>
      <geometry>
        <mesh filename="screw~screw5_convex_piece_46.obj" scale="1.0000E+00 1.0000E+00 1.0000E+00"/>
      </geometry>
      <material name=""/>
    </visual>
    <collision>
      <origin xyz="0 0 0" rpy="0 0 0"/>
      <geometry>
        <mesh filename="screw~screw5_convex_piece_46.obj" scale="1.0000E+00 1.0000E+00 1.0000E+00"/>
      </geometry>
    </collision>
  </link>
  <joint name="link_screw~screw5_convex_piece_46_joint" type="fixed">
    <origin xyz="0 0 0" rpy="0 0 0"/>
    <parent link="link_screw~screw5_convex_piece_45"/>
    <child link="link_screw~screw5_convex_piece_46"/>
  </joint>
  <link name="link_screw~screw5_convex_piece_47">
    <inertial>
      <origin xyz="0 0 0" rpy="0 0 0"/>
      <mass value="5.12E-04"/>
      <inertia ixx="2.34E-07" ixy="7.47E-08" ixz="2.97E-09" iyy="3.33E-08" iyz="-8.29E-09" izz="2.52E-07"/>
    </inertial>
    <visual>
      <origin xyz="0 0 0" rpy="0 0 0"/>
      <geometry>
        <mesh filename="screw~screw5_convex_piece_47.obj" scale="1.0000E+00 1.0000E+00 1.0000E+00"/>
      </geometry>
      <material name=""/>
    </visual>
    <collision>
      <origin xyz="0 0 0" rpy="0 0 0"/>
      <geometry>
        <mesh filename="screw~screw5_convex_piece_47.obj" scale="1.0000E+00 1.0000E+00 1.0000E+00"/>
      </geometry>
    </collision>
  </link>
  <joint name="link_screw~screw5_convex_piece_47_joint" type="fixed">
    <origin xyz="0 0 0" rpy="0 0 0"/>
    <parent link="link_screw~screw5_convex_piece_46"/>
    <child link="link_screw~screw5_convex_piece_47"/>
  </joint>
  <link name="link_screw~screw5_convex_piece_48">
    <inertial>
      <origin xyz="0 0 0" rpy="0 0 0"/>
      <mass value="4.87E-04"/>
      <inertia ixx="5.88E-07" ixy="-3.80E-08" ixz="3.23E-09" iyy="9.52E-09" iyz="5.53E-08" izz="5.86E-07"/>
    </inertial>
    <visual>
      <origin xyz="0 0 0" rpy="0 0 0"/>
      <geometry>
        <mesh filename="screw~screw5_convex_piece_48.obj" scale="1.0000E+00 1.0000E+00 1.0000E+00"/>
      </geometry>
      <material name=""/>
    </visual>
    <collision>
      <origin xyz="0 0 0" rpy="0 0 0"/>
      <geometry>
        <mesh filename="screw~screw5_convex_piece_48.obj" scale="1.0000E+00 1.0000E+00 1.0000E+00"/>
      </geometry>
    </collision>
  </link>
  <joint name="link_screw~screw5_convex_piece_48_joint" type="fixed">
    <origin xyz="0 0 0" rpy="0 0 0"/>
    <parent link="link_screw~screw5_convex_piece_47"/>
    <child link="link_screw~screw5_convex_piece_48"/>
  </joint>
  <link name="link_screw~screw5_convex_piece_49">
    <inertial>
      <origin xyz="0 0 0" rpy="0 0 0"/>
      <mass value="7.57E-04"/>
      <inertia ixx="3.66E-07" ixy="2.79E-08" ixz="-5.44E-09" iyy="3.15E-08" iyz="8.38E-08" izz="3.48E-07"/>
    </inertial>
    <visual>
      <origin xyz="0 0 0" rpy="0 0 0"/>
      <geometry>
        <mesh filename="screw~screw5_convex_piece_49.obj" scale="1.0000E+00 1.0000E+00 1.0000E+00"/>
      </geometry>
      <material name=""/>
    </visual>
    <collision>
      <origin xyz="0 0 0" rpy="0 0 0"/>
      <geometry>
        <mesh filename="screw~screw5_convex_piece_49.obj" scale="1.0000E+00 1.0000E+00 1.0000E+00"/>
      </geometry>
    </collision>
  </link>
  <joint name="link_screw~screw5_convex_piece_49_joint" type="fixed">
    <origin xyz="0 0 0" rpy="0 0 0"/>
    <parent link="link_screw~screw5_convex_piece_48"/>
    <child link="link_screw~screw5_convex_piece_49"/>
  </joint>
  <link name="link_screw~screw5_convex_piece_50">
    <inertial>
      <origin xyz="0 0 0" rpy="0 0 0"/>
      <mass value="5.68E-04"/>
      <inertia ixx="4.31E-07" ixy="4.04E-09" ixz="-4.40E-10" iyy="1.20E-08" iyz="6.27E-08" izz="4.22E-07"/>
    </inertial>
    <visual>
      <origin xyz="0 0 0" rpy="0 0 0"/>
      <geometry>
        <mesh filename="screw~screw5_convex_piece_50.obj" scale="1.0000E+00 1.0000E+00 1.0000E+00"/>
      </geometry>
      <material name=""/>
    </visual>
    <collision>
      <origin xyz="0 0 0" rpy="0 0 0"/>
      <geometry>
        <mesh filename="screw~screw5_convex_piece_50.obj" scale="1.0000E+00 1.0000E+00 1.0000E+00"/>
      </geometry>
    </collision>
  </link>
  <joint name="link_screw~screw5_convex_piece_50_joint" type="fixed">
    <origin xyz="0 0 0" rpy="0 0 0"/>
    <parent link="link_screw~screw5_convex_piece_49"/>
    <child link="link_screw~screw5_convex_piece_50"/>
  </joint>
  <link name="link_screw~screw5_convex_piece_51">
    <inertial>
      <origin xyz="0 0 0" rpy="0 0 0"/>
      <mass value="2.77E-03"/>
      <inertia ixx="6.92E-07" ixy="-3.91E-07" ixz="4.09E-09" iyy="3.30E-07" iyz="3.72E-09" izz="8.90E-07"/>
    </inertial>
    <visual>
      <origin xyz="0 0 0" rpy="0 0 0"/>
      <geometry>
        <mesh filename="screw~screw5_convex_piece_51.obj" scale="1.0000E+00 1.0000E+00 1.0000E+00"/>
      </geometry>
      <material name=""/>
    </visual>
    <collision>
      <origin xyz="0 0 0" rpy="0 0 0"/>
      <geometry>
        <mesh filename="screw~screw5_convex_piece_51.obj" scale="1.0000E+00 1.0000E+00 1.0000E+00"/>
      </geometry>
    </collision>
  </link>
  <joint name="link_screw~screw5_convex_piece_51_joint" type="fixed">
    <origin xyz="0 0 0" rpy="0 0 0"/>
    <parent link="link_screw~screw5_convex_piece_50"/>
    <child link="link_screw~screw5_convex_piece_51"/>
  </joint>
  <link name="link_screw~screw5_convex_piece_52">
    <inertial>
      <origin xyz="0 0 0" rpy="0 0 0"/>
      <mass value="1.92E-03"/>
      <inertia ixx="3.03E-07" ixy="8.56E-08" ixz="-4.86E-09" iyy="5.03E-08" iyz="5.85E-09" izz="3.34E-07"/>
    </inertial>
    <visual>
      <origin xyz="0 0 0" rpy="0 0 0"/>
      <geometry>
        <mesh filename="screw~screw5_convex_piece_52.obj" scale="1.0000E+00 1.0000E+00 1.0000E+00"/>
      </geometry>
      <material name=""/>
    </visual>
    <collision>
      <origin xyz="0 0 0" rpy="0 0 0"/>
      <geometry>
        <mesh filename="screw~screw5_convex_piece_52.obj" scale="1.0000E+00 1.0000E+00 1.0000E+00"/>
      </geometry>
    </collision>
  </link>
  <joint name="link_screw~screw5_convex_piece_52_joint" type="fixed">
    <origin xyz="0 0 0" rpy="0 0 0"/>
    <parent link="link_screw~screw5_convex_piece_51"/>
    <child link="link_screw~screw5_convex_piece_52"/>
  </joint>
  <link name="link_screw~screw5_convex_piece_53">
    <inertial>
      <origin xyz="0 0 0" rpy="0 0 0"/>
      <mass value="8.10E-04"/>
      <inertia ixx="9.20E-07" ixy="7.51E-08" ixz="4.15E-09" iyy="1.45E-08" iyz="-6.24E-08" izz="9.22E-07"/>
    </inertial>
    <visual>
      <origin xyz="0 0 0" rpy="0 0 0"/>
      <geometry>
        <mesh filename="screw~screw5_convex_piece_53.obj" scale="1.0000E+00 1.0000E+00 1.0000E+00"/>
      </geometry>
      <material name=""/>
    </visual>
    <collision>
      <origin xyz="0 0 0" rpy="0 0 0"/>
      <geometry>
        <mesh filename="screw~screw5_convex_piece_53.obj" scale="1.0000E+00 1.0000E+00 1.0000E+00"/>
      </geometry>
    </collision>
  </link>
  <joint name="link_screw~screw5_convex_piece_53_joint" type="fixed">
    <origin xyz="0 0 0" rpy="0 0 0"/>
    <parent link="link_screw~screw5_convex_piece_52"/>
    <child link="link_screw~screw5_convex_piece_53"/>
  </joint>
  <link name="link_screw~screw5_convex_piece_54">
    <inertial>
      <origin xyz="0 0 0" rpy="0 0 0"/>
      <mass value="9.35E-04"/>
      <inertia ixx="1.10E-06" ixy="-8.98E-08" ixz="-3.26E-09" iyy="1.67E-08" iyz="-5.66E-08" izz="1.10E-06"/>
    </inertial>
    <visual>
      <origin xyz="0 0 0" rpy="0 0 0"/>
      <geometry>
        <mesh filename="screw~screw5_convex_piece_54.obj" scale="1.0000E+00 1.0000E+00 1.0000E+00"/>
      </geometry>
      <material name=""/>
    </visual>
    <collision>
      <origin xyz="0 0 0" rpy="0 0 0"/>
      <geometry>
        <mesh filename="screw~screw5_convex_piece_54.obj" scale="1.0000E+00 1.0000E+00 1.0000E+00"/>
      </geometry>
    </collision>
  </link>
  <joint name="link_screw~screw5_convex_piece_54_joint" type="fixed">
    <origin xyz="0 0 0" rpy="0 0 0"/>
    <parent link="link_screw~screw5_convex_piece_53"/>
    <child link="link_screw~screw5_convex_piece_54"/>
  </joint>
  <link name="link_screw~screw5_convex_piece_55">
    <inertial>
      <origin xyz="0 0 0" rpy="0 0 0"/>
      <mass value="1.57E-03"/>
      <inertia ixx="5.46E-07" ixy="-2.85E-07" ixz="-2.79E-08" iyy="1.84E-07" iyz="-4.60E-08" izz="6.90E-07"/>
    </inertial>
    <visual>
      <origin xyz="0 0 0" rpy="0 0 0"/>
      <geometry>
        <mesh filename="screw~screw5_convex_piece_55.obj" scale="1.0000E+00 1.0000E+00 1.0000E+00"/>
      </geometry>
      <material name=""/>
    </visual>
    <collision>
      <origin xyz="0 0 0" rpy="0 0 0"/>
      <geometry>
        <mesh filename="screw~screw5_convex_piece_55.obj" scale="1.0000E+00 1.0000E+00 1.0000E+00"/>
      </geometry>
    </collision>
  </link>
  <joint name="link_screw~screw5_convex_piece_55_joint" type="fixed">
    <origin xyz="0 0 0" rpy="0 0 0"/>
    <parent link="link_screw~screw5_convex_piece_54"/>
    <child link="link_screw~screw5_convex_piece_55"/>
  </joint>
  <link name="link_screw~screw5_convex_piece_56">
    <inertial>
      <origin xyz="0 0 0" rpy="0 0 0"/>
      <mass value="1.21E-03"/>
      <inertia ixx="5.47E-07" ixy="-4.53E-08" ixz="2.48E-08" iyy="1.42E-07" iyz="2.23E-07" izz="4.44E-07"/>
    </inertial>
    <visual>
      <origin xyz="0 0 0" rpy="0 0 0"/>
      <geometry>
        <mesh filename="screw~screw5_convex_piece_56.obj" scale="1.0000E+00 1.0000E+00 1.0000E+00"/>
      </geometry>
      <material name=""/>
    </visual>
    <collision>
      <origin xyz="0 0 0" rpy="0 0 0"/>
      <geometry>
        <mesh filename="screw~screw5_convex_piece_56.obj" scale="1.0000E+00 1.0000E+00 1.0000E+00"/>
      </geometry>
    </collision>
  </link>
  <joint name="link_screw~screw5_convex_piece_56_joint" type="fixed">
    <origin xyz="0 0 0" rpy="0 0 0"/>
    <parent link="link_screw~screw5_convex_piece_55"/>
    <child link="link_screw~screw5_convex_piece_56"/>
  </joint>
  <link name="link_screw~screw5_convex_piece_57">
    <inertial>
      <origin xyz="0 0 0" rpy="0 0 0"/>
      <mass value="8.57E-04"/>
      <inertia ixx="6.28E-07" ixy="-9.04E-08" ixz="9.58E-10" iyy="2.08E-08" iyz="9.12E-09" izz="6.36E-07"/>
    </inertial>
    <visual>
      <origin xyz="0 0 0" rpy="0 0 0"/>
      <geometry>
        <mesh filename="screw~screw5_convex_piece_57.obj" scale="1.0000E+00 1.0000E+00 1.0000E+00"/>
      </geometry>
      <material name=""/>
    </visual>
    <collision>
      <origin xyz="0 0 0" rpy="0 0 0"/>
      <geometry>
        <mesh filename="screw~screw5_convex_piece_57.obj" scale="1.0000E+00 1.0000E+00 1.0000E+00"/>
      </geometry>
    </collision>
  </link>
  <joint name="link_screw~screw5_convex_piece_57_joint" type="fixed">
    <origin xyz="0 0 0" rpy="0 0 0"/>
    <parent link="link_screw~screw5_convex_piece_56"/>
    <child link="link_screw~screw5_convex_piece_57"/>
  </joint>
  <link name="link_screw~screw5_convex_piece_58">
    <inertial>
      <origin xyz="0 0 0" rpy="0 0 0"/>
      <mass value="2.28E-03"/>
      <inertia ixx="8.81E-07" ixy="-9.25E-09" ixz="5.56E-09" iyy="4.95E-07" iyz="4.23E-07" izz="4.69E-07"/>
    </inertial>
    <visual>
      <origin xyz="0 0 0" rpy="0 0 0"/>
      <geometry>
        <mesh filename="screw~screw5_convex_piece_58.obj" scale="1.0000E+00 1.0000E+00 1.0000E+00"/>
      </geometry>
      <material name=""/>
    </visual>
    <collision>
      <origin xyz="0 0 0" rpy="0 0 0"/>
      <geometry>
        <mesh filename="screw~screw5_convex_piece_58.obj" scale="1.0000E+00 1.0000E+00 1.0000E+00"/>
      </geometry>
    </collision>
  </link>
  <joint name="link_screw~screw5_convex_piece_58_joint" type="fixed">
    <origin xyz="0 0 0" rpy="0 0 0"/>
    <parent link="link_screw~screw5_convex_piece_57"/>
    <child link="link_screw~screw5_convex_piece_58"/>
  </joint>
  <link name="link_screw~screw5_convex_piece_59">
    <inertial>
      <origin xyz="0 0 0" rpy="0 0 0"/>
      <mass value="5.97E-04"/>
      <inertia ixx="3.82E-07" ixy="4.84E-08" ixz="3.74E-10" iyy="1.43E-08" iyz="-1.17E-08" izz="3.83E-07"/>
    </inertial>
    <visual>
      <origin xyz="0 0 0" rpy="0 0 0"/>
      <geometry>
        <mesh filename="screw~screw5_convex_piece_59.obj" scale="1.0000E+00 1.0000E+00 1.0000E+00"/>
      </geometry>
      <material name=""/>
    </visual>
    <collision>
      <origin xyz="0 0 0" rpy="0 0 0"/>
      <geometry>
        <mesh filename="screw~screw5_convex_piece_59.obj" scale="1.0000E+00 1.0000E+00 1.0000E+00"/>
      </geometry>
    </collision>
  </link>
  <joint name="link_screw~screw5_convex_piece_59_joint" type="fixed">
    <origin xyz="0 0 0" rpy="0 0 0"/>
    <parent link="link_screw~screw5_convex_piece_58"/>
    <child link="link_screw~screw5_convex_piece_59"/>
  </joint>
  <link name="link_screw~screw5_convex_piece_60">
    <inertial>
      <origin xyz="0 0 0" rpy="0 0 0"/>
      <mass value="2.54E-03"/>
      <inertia ixx="2.71E-07" ixy="-2.29E-08" ixz="-2.73E-09" iyy="3.75E-08" iyz="-1.22E-08" izz="2.71E-07"/>
    </inertial>
    <visual>
      <origin xyz="0 0 0" rpy="0 0 0"/>
      <geometry>
        <mesh filename="screw~screw5_convex_piece_60.obj" scale="1.0000E+00 1.0000E+00 1.0000E+00"/>
      </geometry>
      <material name=""/>
    </visual>
    <collision>
      <origin xyz="0 0 0" rpy="0 0 0"/>
      <geometry>
        <mesh filename="screw~screw5_convex_piece_60.obj" scale="1.0000E+00 1.0000E+00 1.0000E+00"/>
      </geometry>
    </collision>
  </link>
  <joint name="link_screw~screw5_convex_piece_60_joint" type="fixed">
    <origin xyz="0 0 0" rpy="0 0 0"/>
    <parent link="link_screw~screw5_convex_piece_59"/>
    <child link="link_screw~screw5_convex_piece_60"/>
  </joint>
  <link name="link_screw~screw5_convex_piece_61">
    <inertial>
      <origin xyz="0 0 0" rpy="0 0 0"/>
      <mass value="3.05E-03"/>
      <inertia ixx="5.10E-07" ixy="-2.81E-08" ixz="2.67E-07" iyy="6.37E-07" iyz="4.31E-08" izz="2.97E-07"/>
    </inertial>
    <visual>
      <origin xyz="0 0 0" rpy="0 0 0"/>
      <geometry>
        <mesh filename="screw~screw5_convex_piece_61.obj" scale="1.0000E+00 1.0000E+00 1.0000E+00"/>
      </geometry>
      <material name=""/>
    </visual>
    <collision>
      <origin xyz="0 0 0" rpy="0 0 0"/>
      <geometry>
        <mesh filename="screw~screw5_convex_piece_61.obj" scale="1.0000E+00 1.0000E+00 1.0000E+00"/>
      </geometry>
    </collision>
  </link>
  <joint name="link_screw~screw5_convex_piece_61_joint" type="fixed">
    <origin xyz="0 0 0" rpy="0 0 0"/>
    <parent link="link_screw~screw5_convex_piece_60"/>
    <child link="link_screw~screw5_convex_piece_61"/>
  </joint>
  <link name="link_screw~screw5_convex_piece_62">
    <inertial>
      <origin xyz="0 0 0" rpy="0 0 0"/>
      <mass value="2.47E-03"/>
      <inertia ixx="1.10E-06" ixy="-1.09E-07" ixz="-4.38E-08" iyy="3.42E-07" iyz="-4.57E-07" izz="8.77E-07"/>
    </inertial>
    <visual>
      <origin xyz="0 0 0" rpy="0 0 0"/>
      <geometry>
        <mesh filename="screw~screw5_convex_piece_62.obj" scale="1.0000E+00 1.0000E+00 1.0000E+00"/>
      </geometry>
      <material name=""/>
    </visual>
    <collision>
      <origin xyz="0 0 0" rpy="0 0 0"/>
      <geometry>
        <mesh filename="screw~screw5_convex_piece_62.obj" scale="1.0000E+00 1.0000E+00 1.0000E+00"/>
      </geometry>
    </collision>
  </link>
  <joint name="link_screw~screw5_convex_piece_62_joint" type="fixed">
    <origin xyz="0 0 0" rpy="0 0 0"/>
    <parent link="link_screw~screw5_convex_piece_61"/>
    <child link="link_screw~screw5_convex_piece_62"/>
  </joint>
  <link name="link_screw~screw5_convex_piece_63">
    <inertial>
      <origin xyz="0 0 0" rpy="0 0 0"/>
      <mass value="1.42E-03"/>
      <inertia ixx="4.99E-07" ixy="1.05E-07" ixz="-2.87E-08" iyy="9.52E-08" iyz="1.40E-07" izz="4.89E-07"/>
    </inertial>
    <visual>
      <origin xyz="0 0 0" rpy="0 0 0"/>
      <geometry>
        <mesh filename="screw~screw5_convex_piece_63.obj" scale="1.0000E+00 1.0000E+00 1.0000E+00"/>
      </geometry>
      <material name=""/>
    </visual>
    <collision>
      <origin xyz="0 0 0" rpy="0 0 0"/>
      <geometry>
        <mesh filename="screw~screw5_convex_piece_63.obj" scale="1.0000E+00 1.0000E+00 1.0000E+00"/>
      </geometry>
    </collision>
  </link>
  <joint name="link_screw~screw5_convex_piece_63_joint" type="fixed">
    <origin xyz="0 0 0" rpy="0 0 0"/>
    <parent link="link_screw~screw5_convex_piece_62"/>
    <child link="link_screw~screw5_convex_piece_63"/>
  </joint>
</robot>
